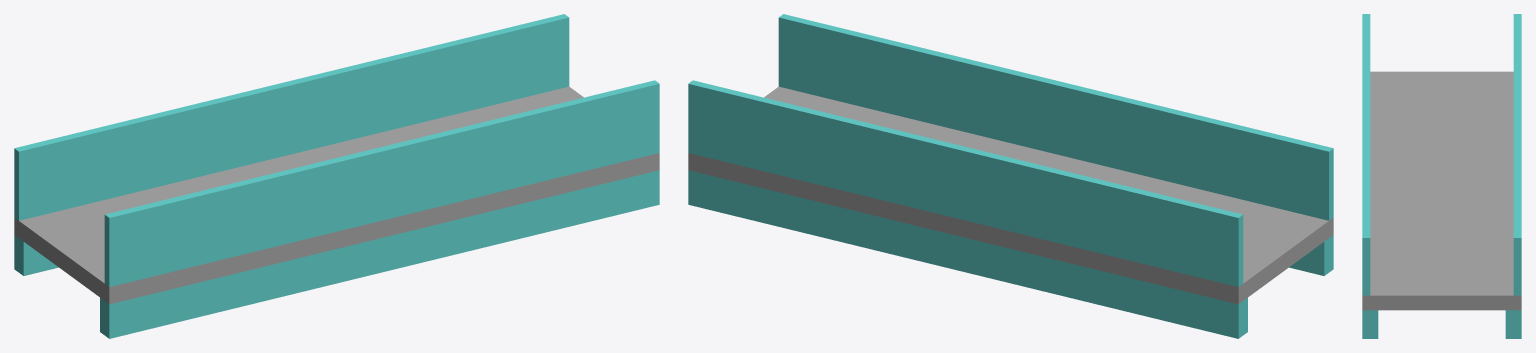
Rendered from bridge_middle.gltf.
3 views of the same model, side by side, from view 1: azimuth 30°, elevation 25°; view 2: azimuth 150°, elevation 25°; view 3: azimuth 270°, elevation 25° (orthographic). The views are drawn at different scales.
Size of the model in its own units: 10 by 2.1 by 3.
